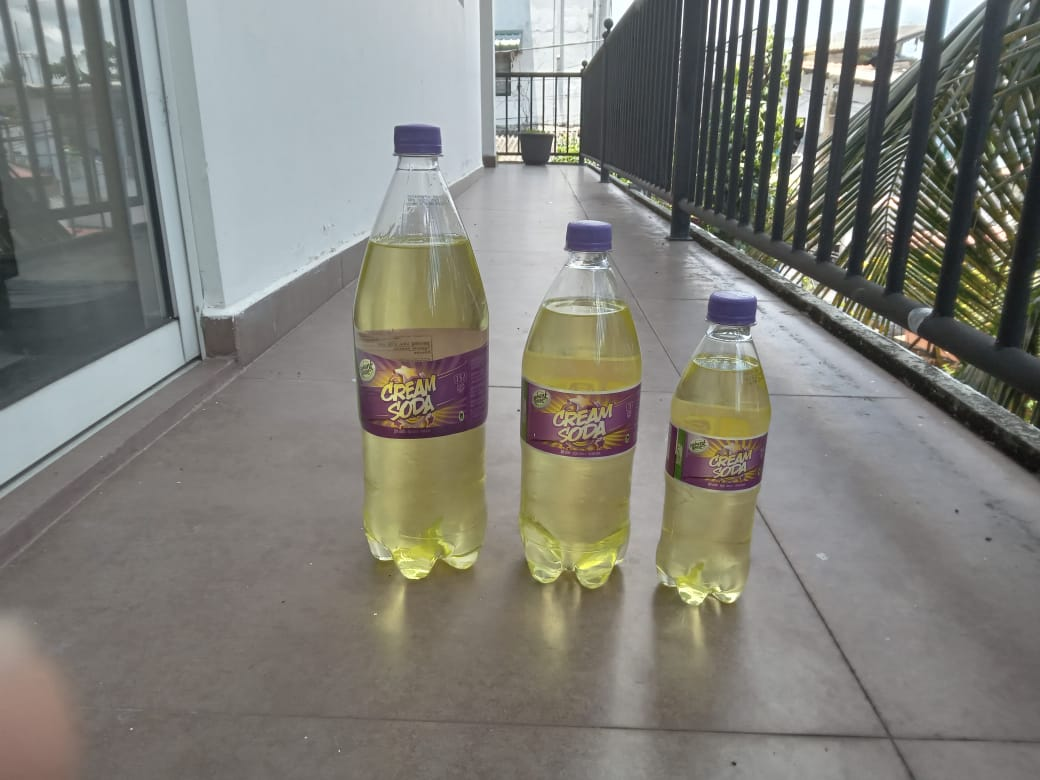L: (351, 123, 492, 579)
M: (520, 219, 645, 591)
S: (652, 290, 769, 609)
